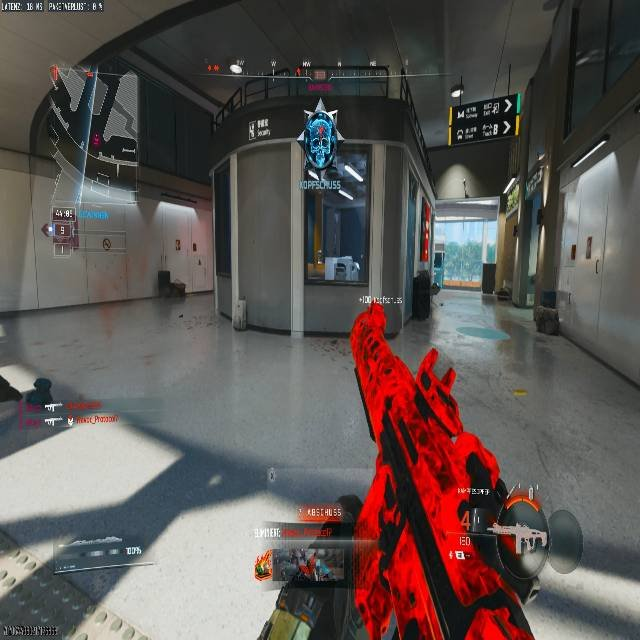head: (307, 92, 329, 115)
player: (251, 538, 338, 639), (300, 95, 345, 190), (366, 311, 386, 343)
